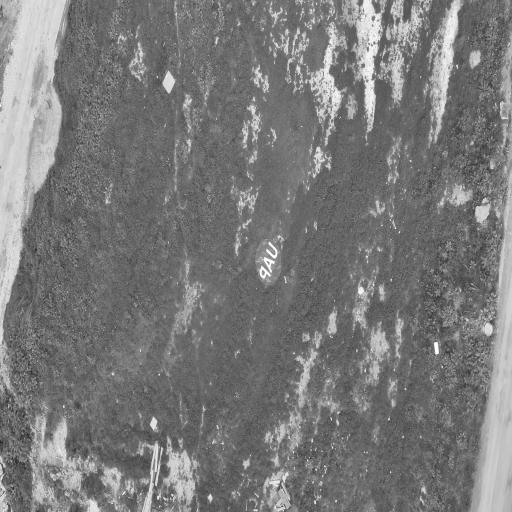UAP: (255, 238, 281, 284)
